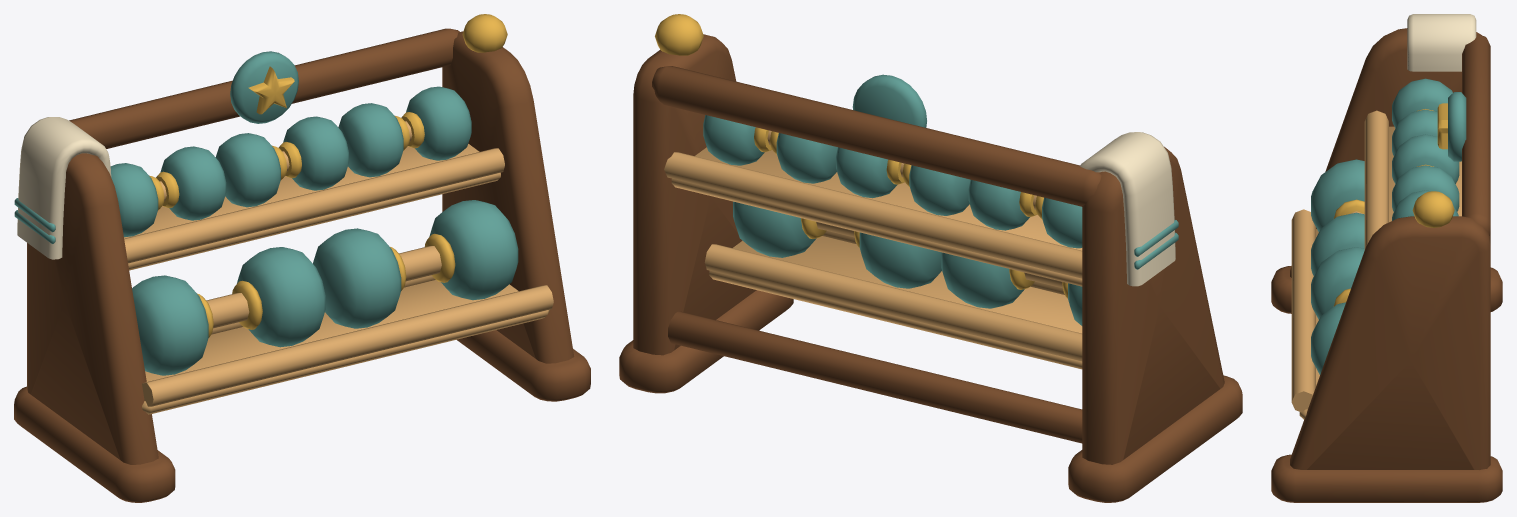
The model's file is ShopDumbbellRack.fbx.
3 renders of one model, left to right at view 1: azimuth 30°, elevation 25°; view 2: azimuth 150°, elevation 25°; view 3: azimuth 270°, elevation 25°, orthographic. The views are drawn at different scales.
Parts seen in each view (by area): view 1: ShopDumbbellRack; view 2: ShopDumbbellRack; view 3: ShopDumbbellRack.
Part boxes in pixels (x1,y1,x2,y2): ShopDumbbellRack: (14, 14, 590, 502); ShopDumbbellRack: (619, 14, 1242, 502); ShopDumbbellRack: (1271, 14, 1502, 502).
Size of the model in its own units: 1.26 by 0.821 by 0.57.
